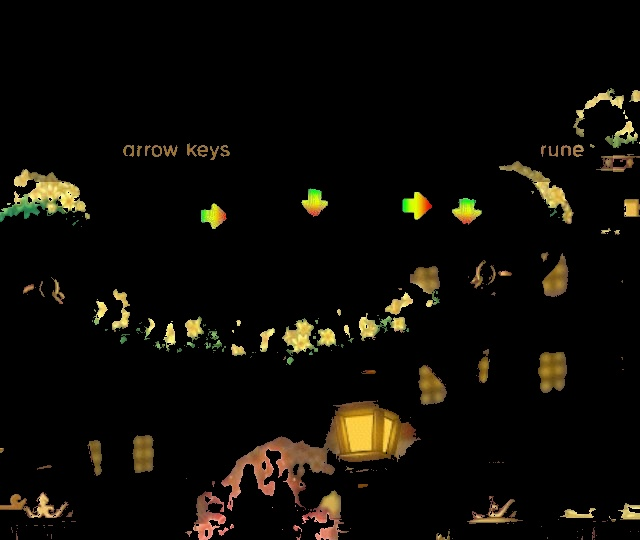down: (290, 179, 335, 231), (445, 191, 489, 231)
right: (394, 184, 437, 231), (191, 195, 238, 236)
